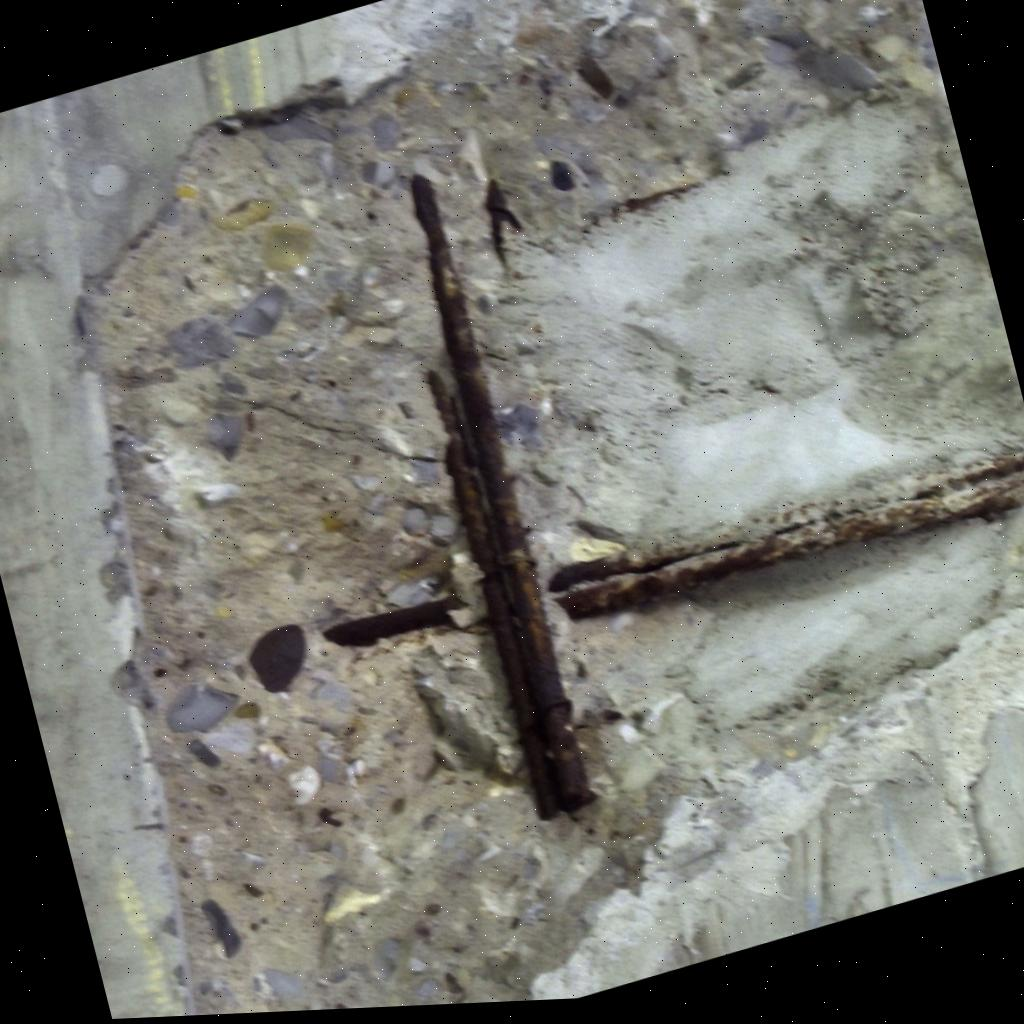exposed_rebar: (410, 174, 594, 817), (547, 452, 1024, 619), (323, 595, 459, 647)
spalling: (85, 0, 1024, 1015)
